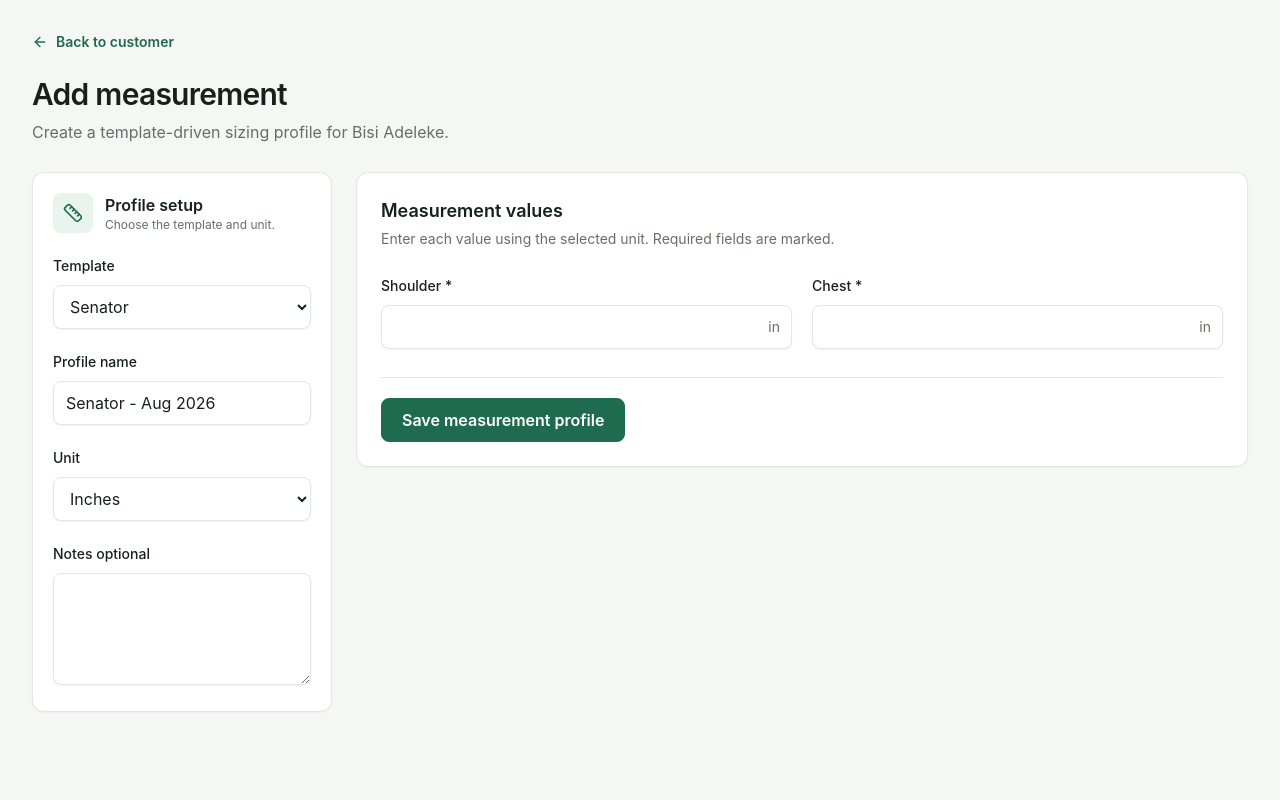
Scenario: API submission error preserves entered values
Check: the text "Shoulder *" is shown, box [381, 277, 452, 294]
Type "18.25" into the field labelled "Shoulder * in".
click(586, 327); type("18.25")  # box [381, 305, 792, 349]
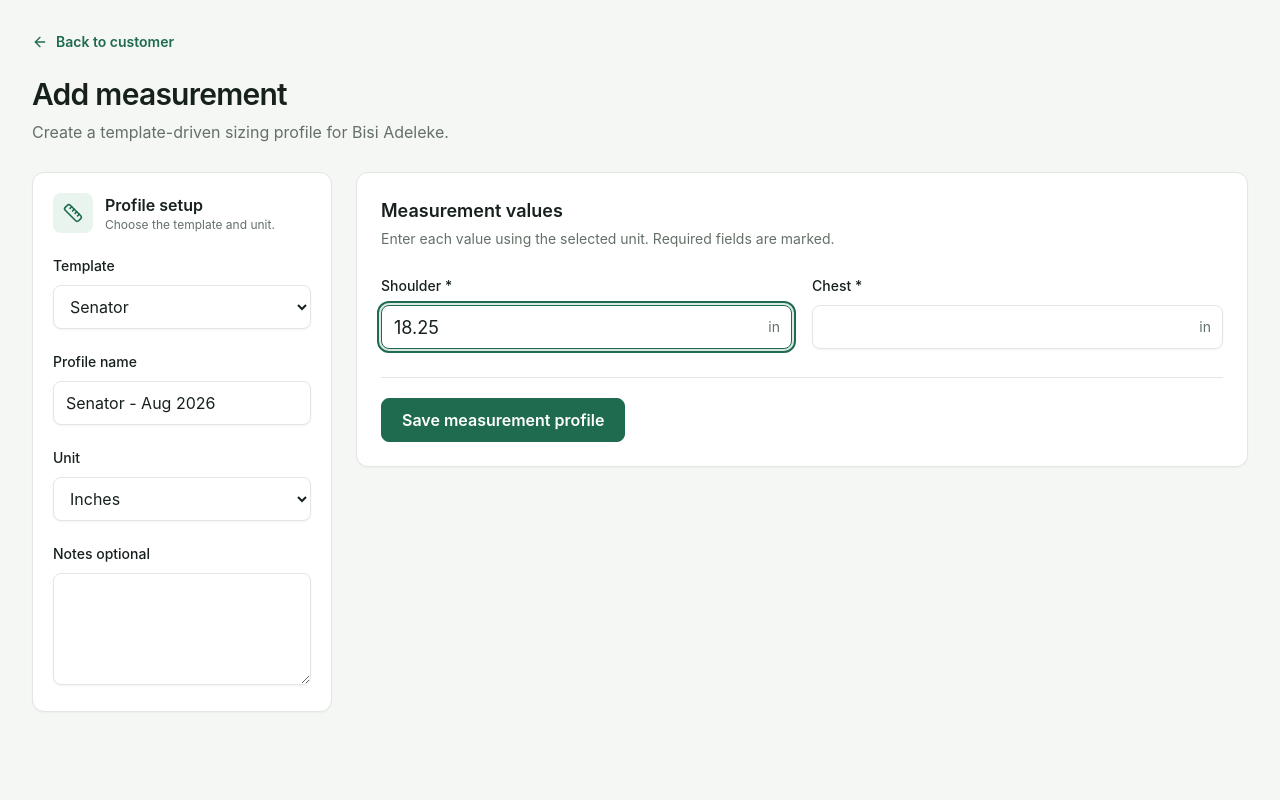
Type "42.50" into the field labelled "Chest * in".
click(1018, 327); type("42.50")  # box [812, 305, 1223, 349]
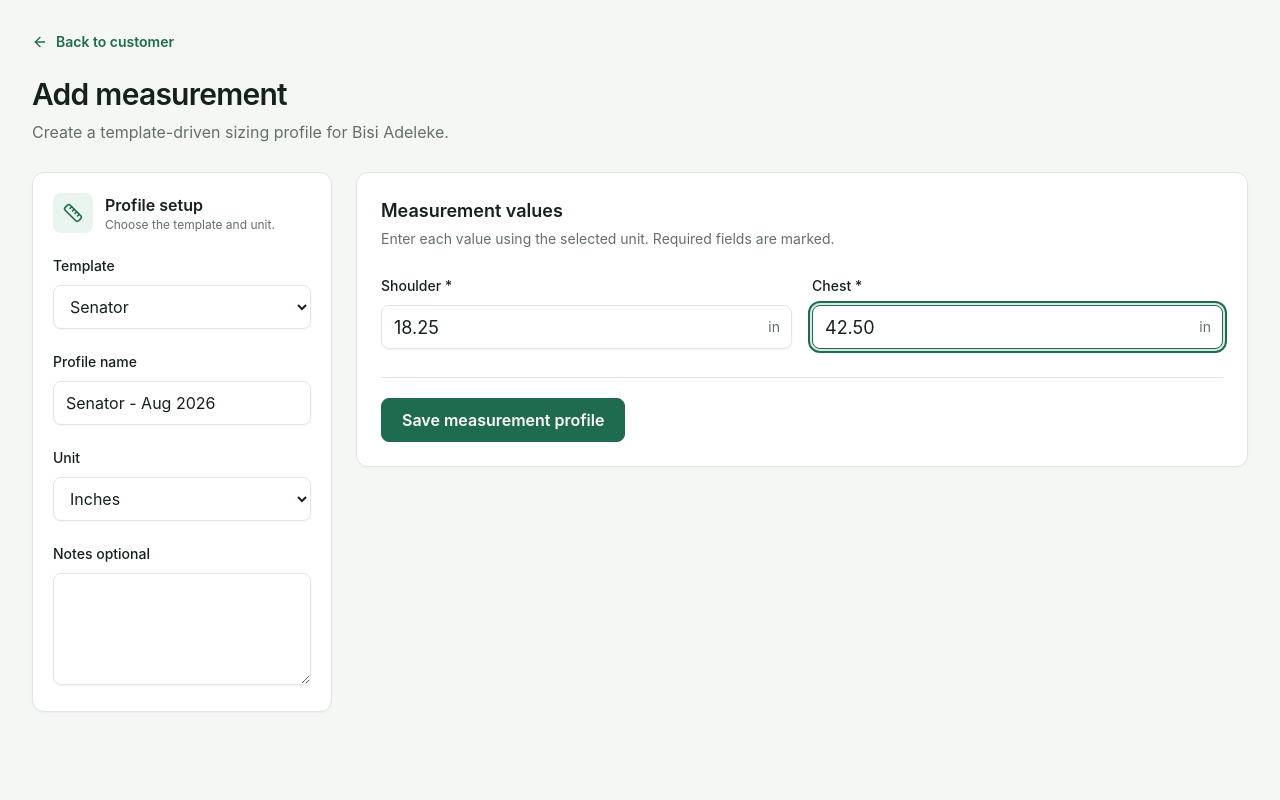
Click the button "Save measurement profile".
click(503, 420)  # box [381, 398, 625, 442]
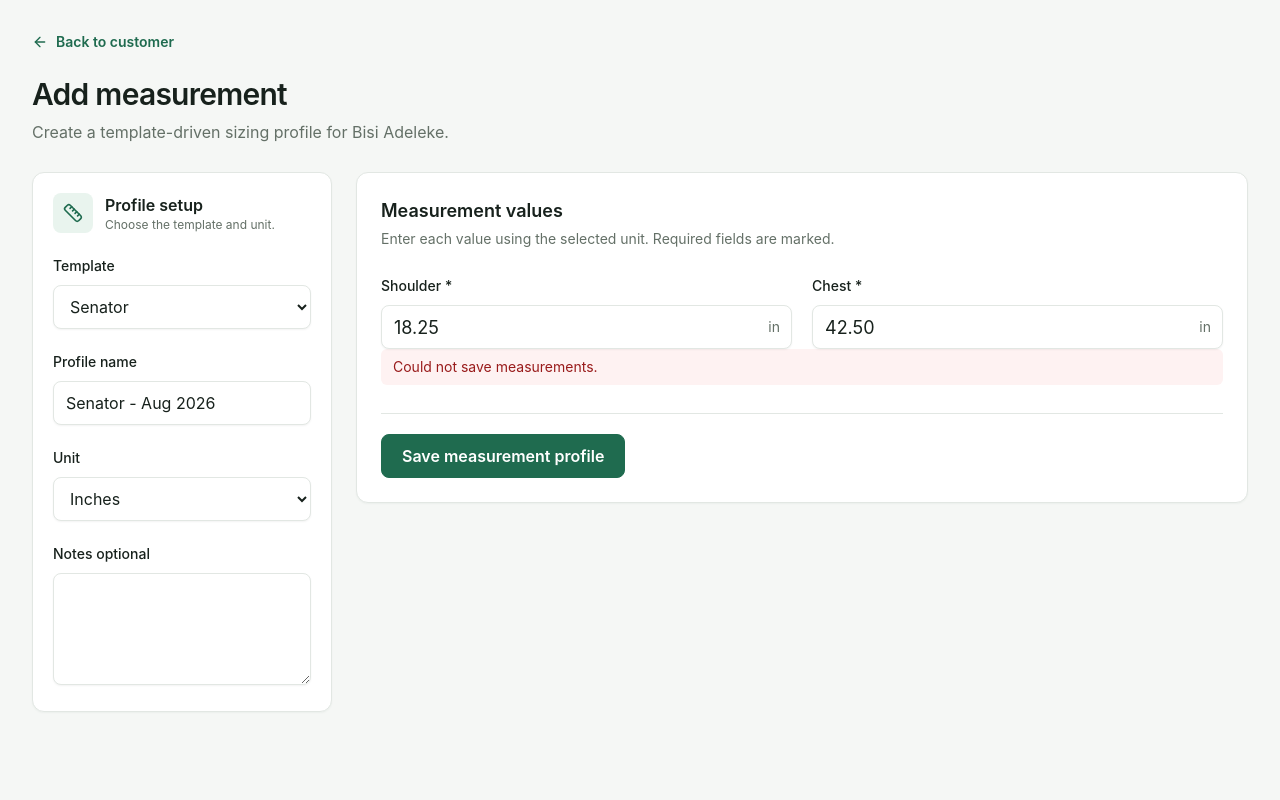
Check: the text "Could not save measurements." is shown, box [381, 349, 1223, 385]
